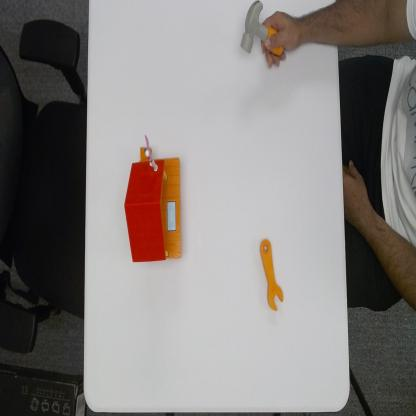Arm: (299, 0, 340, 47)
Hammer: (241, 0, 284, 55)
Hand: (262, 11, 300, 68)
House: (123, 134, 183, 265)
Screwdriver: (258, 235, 284, 314)
